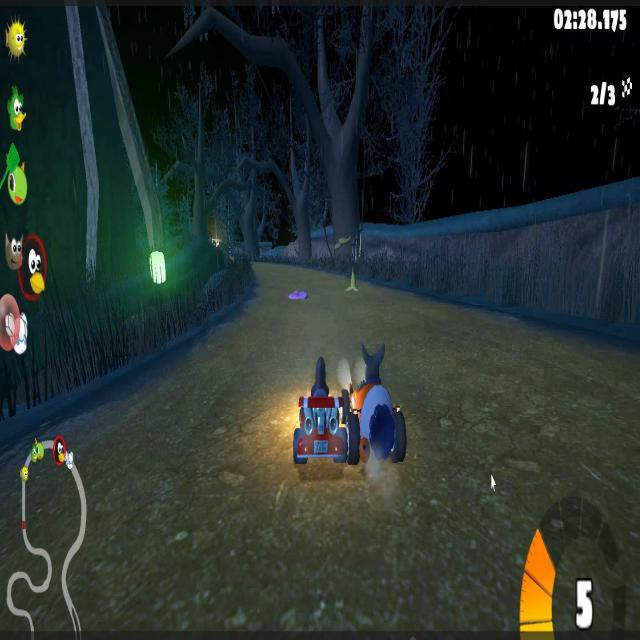obstacle: (342, 264, 366, 307), (290, 285, 311, 313)
track: (409, 358, 640, 640), (0, 448, 182, 630), (184, 343, 290, 636), (298, 468, 407, 626), (236, 309, 520, 335), (414, 336, 612, 356), (116, 395, 184, 448), (252, 278, 290, 302), (370, 288, 413, 304), (315, 282, 339, 306), (258, 268, 332, 274), (252, 258, 286, 271)
